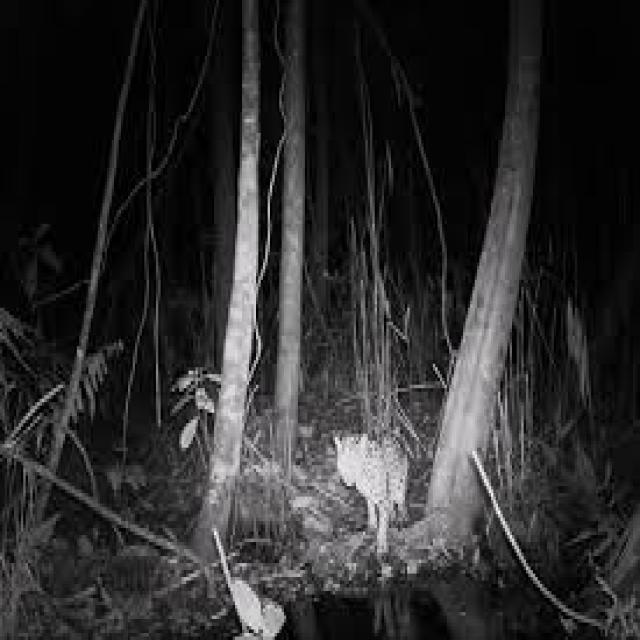Jaguar: (330, 434, 412, 560)
